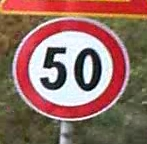limite 50: (13, 18, 127, 122)
